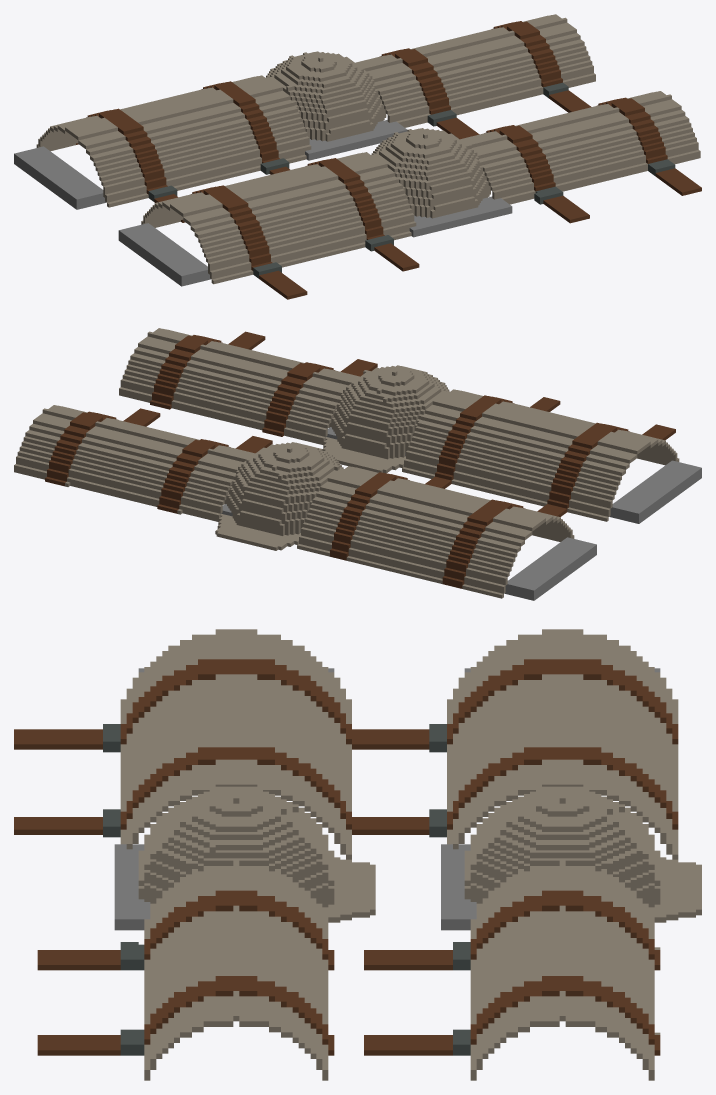
Rendered from qt_light_leg_guard.glb.
3 renders of one model, top to bottom at view 1: azimuth 30°, elevation 25°; view 2: azimuth 150°, elevation 25°; view 3: azimuth 270°, elevation 25°, orthographic. The views are drawn at different scales.
Visible parts, largest first — view 1: qt_light_leg_guard:compound; view 2: qt_light_leg_guard:compound; view 3: qt_light_leg_guard:compound.
Part boxes in pixels (x1=…): qt_light_leg_guard:compound: x1=14, y1=14, x2=701, y2=299; qt_light_leg_guard:compound: x1=14, y1=328, x2=701, y2=600; qt_light_leg_guard:compound: x1=14, y1=629, x2=701, y2=1080.
Size of the model in its own units: 0.632 by 0.072 by 0.464.
